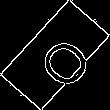O_NW: (21, 22, 89, 88)
